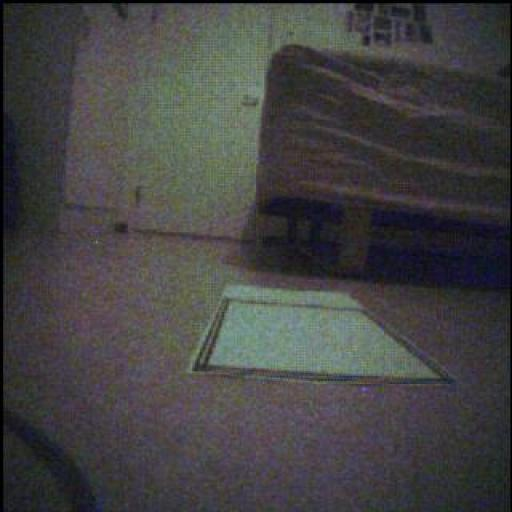pad: (190, 287, 454, 385)
